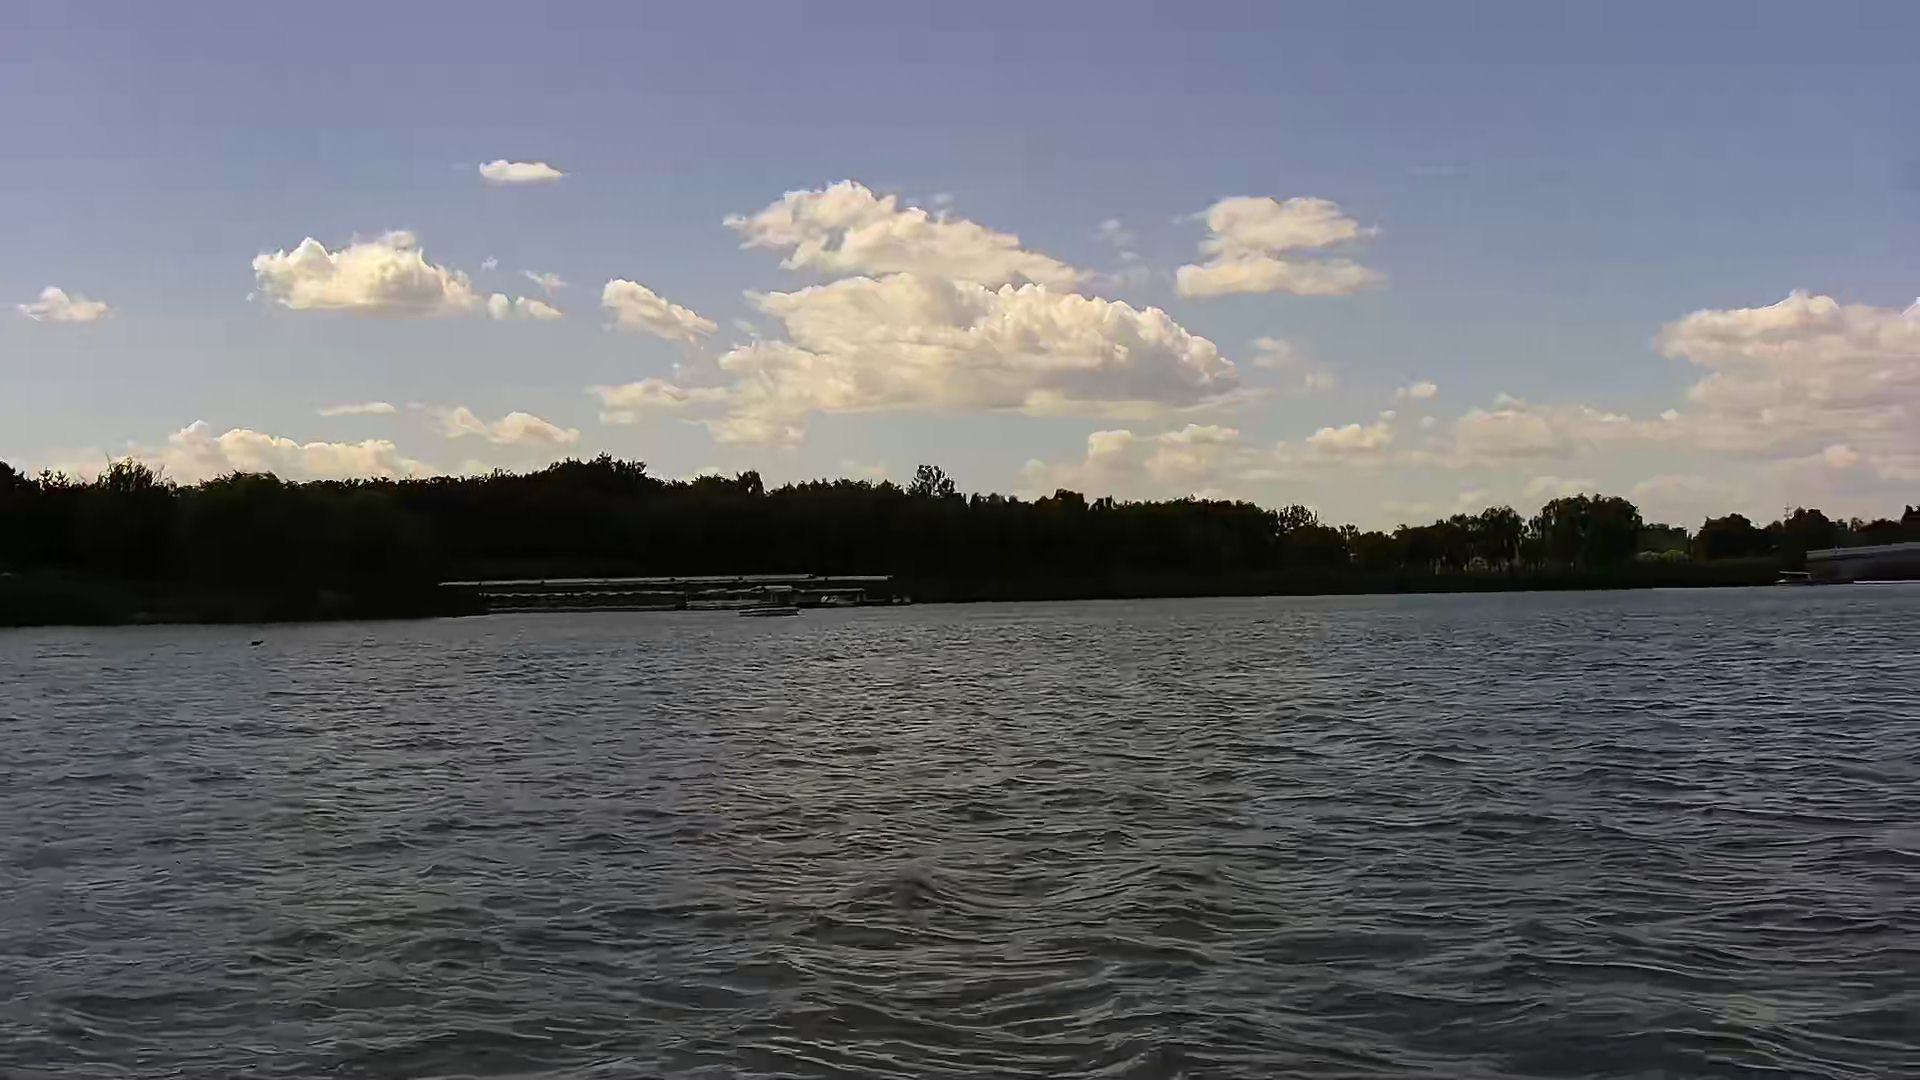boat: (729, 578, 822, 620)
bridge: (1803, 535, 1920, 583)
harbor: (436, 570, 905, 617)
